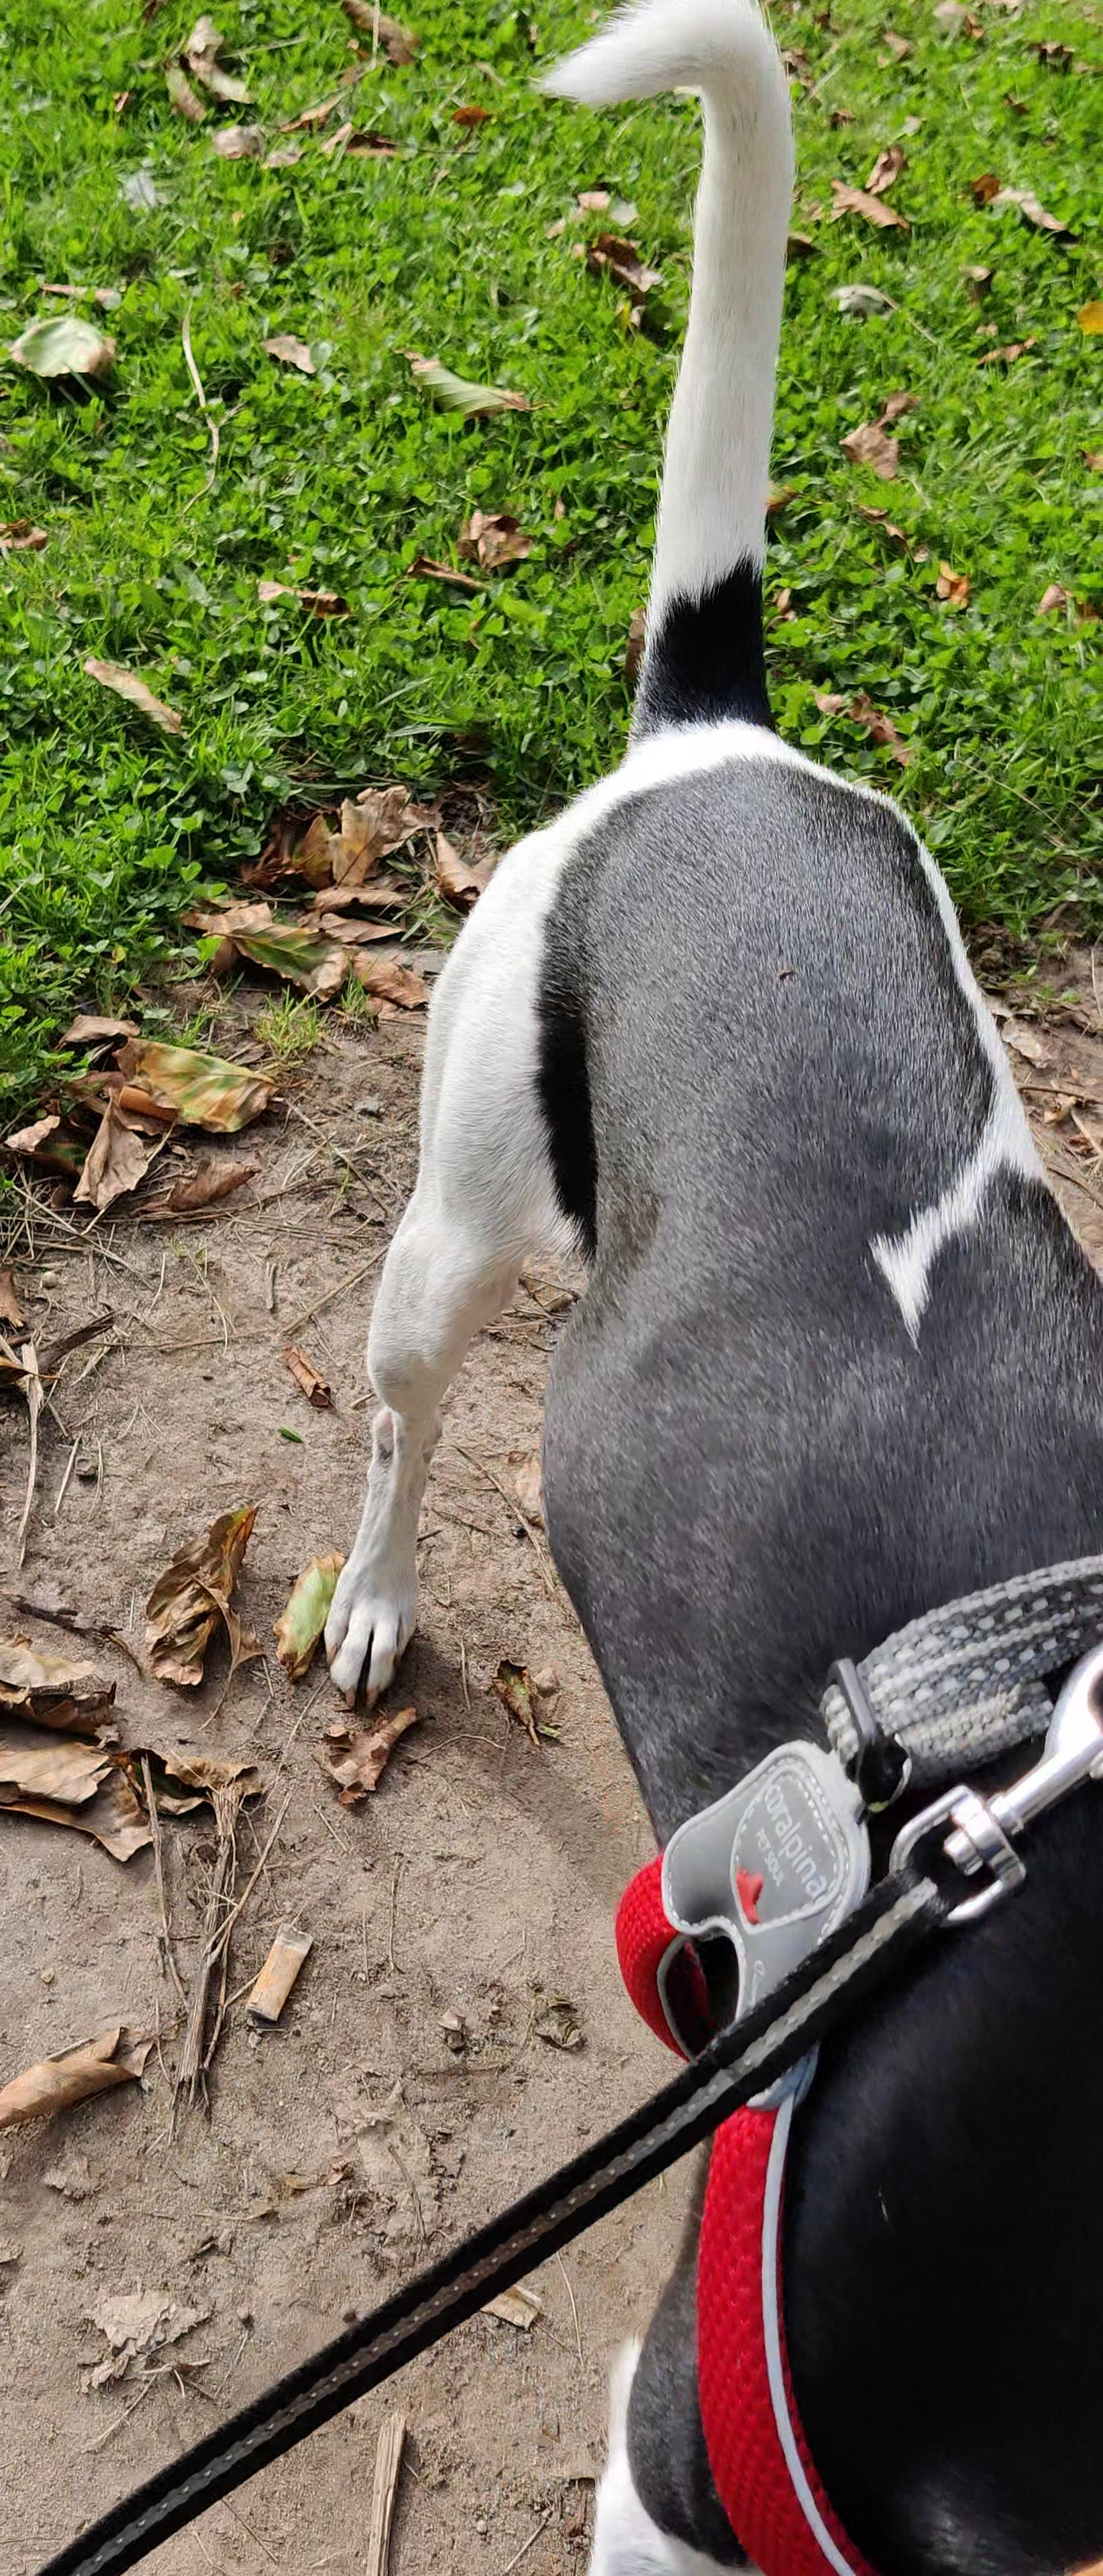Dog: (286, 0, 1103, 2576)
